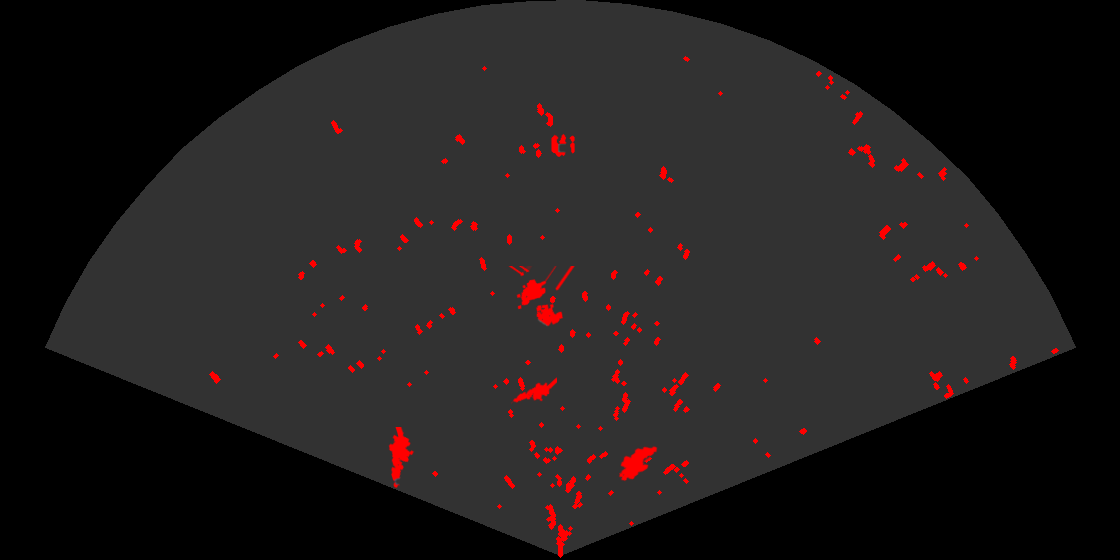AUV: (617, 444, 659, 483)
ball: (550, 132, 576, 158)
cage: (507, 266, 576, 328)
frogman: (387, 427, 416, 489), (511, 376, 557, 406)
